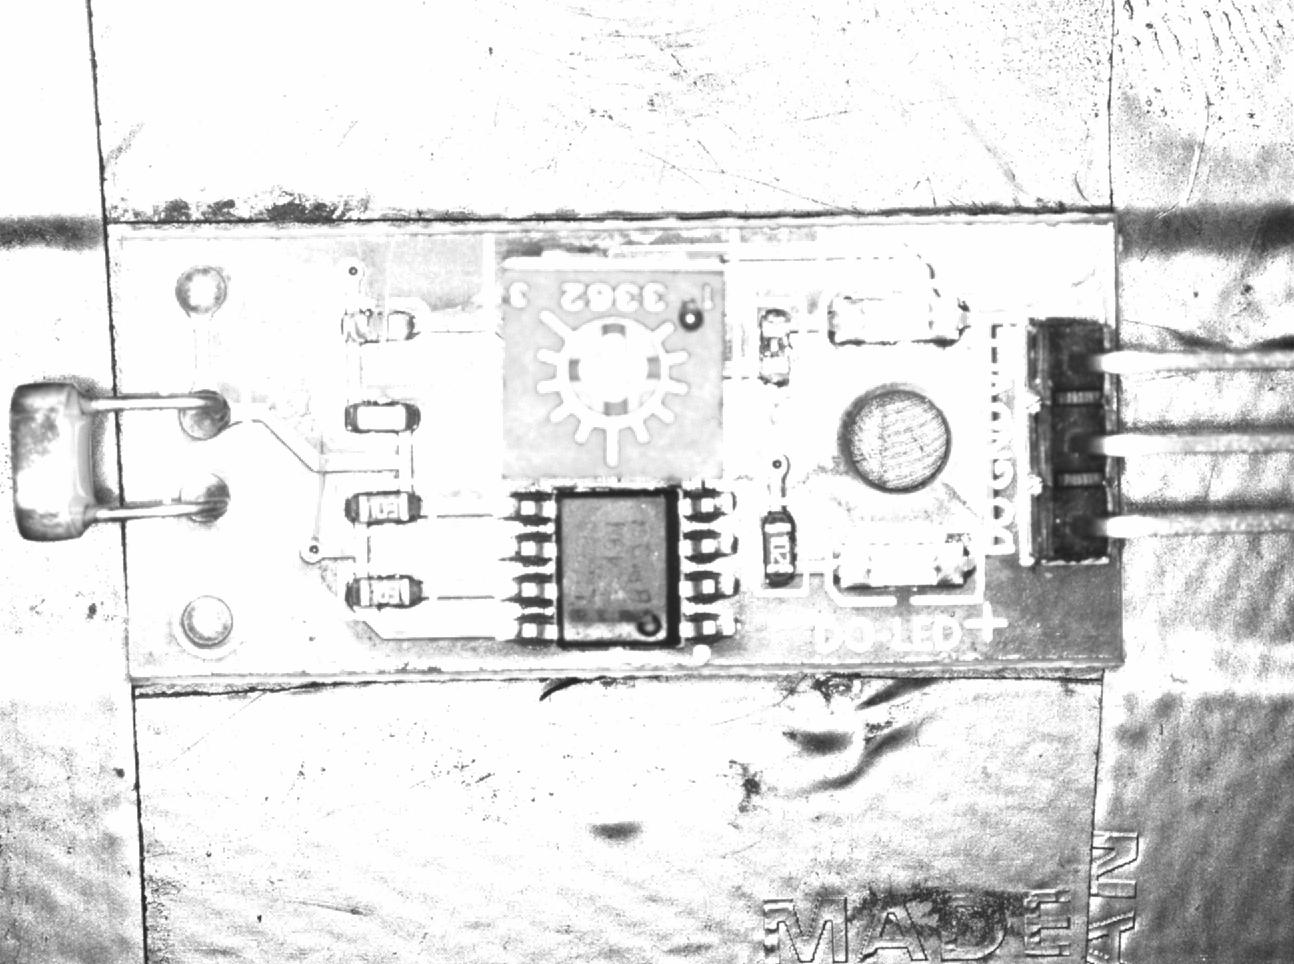miss: (746, 298, 801, 395), (330, 300, 430, 351)
ok: (753, 495, 805, 596), (336, 389, 428, 444), (339, 564, 433, 616), (336, 481, 426, 534)
